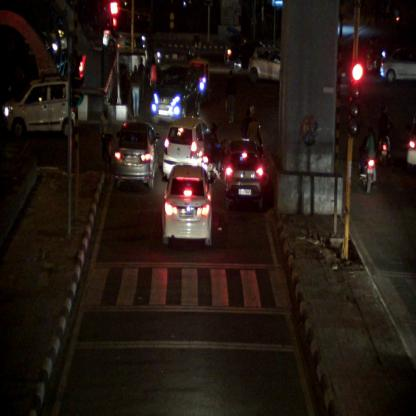car: (2, 76, 79, 141), (161, 165, 217, 249), (163, 116, 213, 182), (114, 122, 158, 190), (223, 141, 263, 209), (151, 66, 200, 121), (379, 47, 416, 88), (222, 39, 263, 74), (249, 46, 280, 81)
motorcycle: (360, 130, 378, 197), (378, 109, 390, 164)
